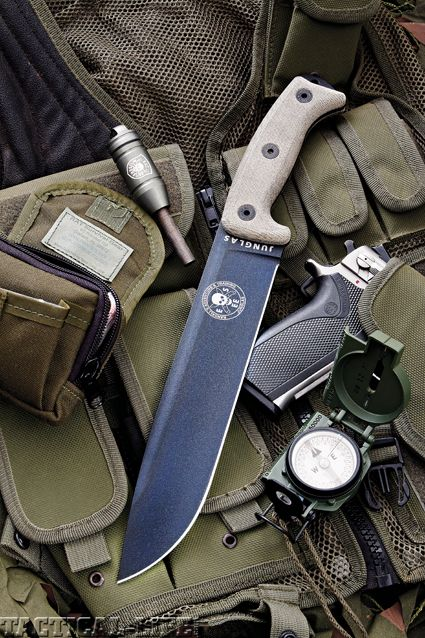knife: (111, 68, 361, 593)
